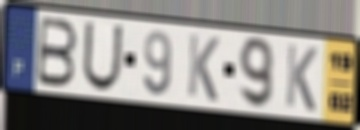9: (237, 35, 276, 111), (142, 28, 173, 98)
B: (34, 14, 80, 90)
K: (283, 41, 320, 114), (185, 31, 221, 104)
U: (80, 20, 125, 93)
